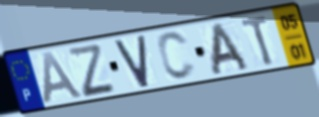A: (40, 50, 87, 106), (210, 20, 252, 78)
C: (155, 30, 199, 83)
T: (239, 13, 278, 68)
V: (112, 33, 152, 91)
Z: (64, 42, 118, 99)
